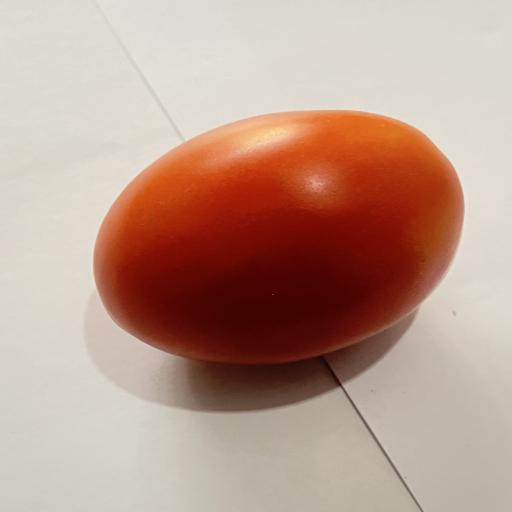ripe: (94, 110, 464, 364)
